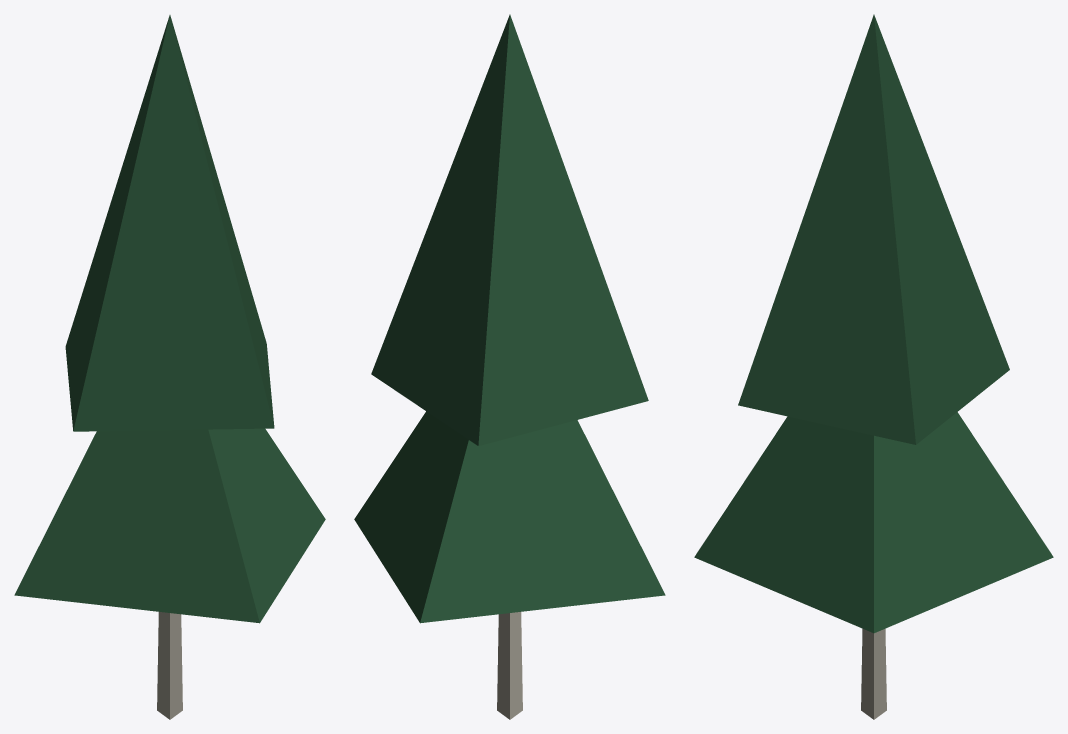
Rendered from tree_cone_far.glb.
3 renders of one model, left to right at view 1: azimuth 30°, elevation 25°; view 2: azimuth 150°, elevation 25°; view 3: azimuth 270°, elevation 25°, orthographic.
Visible parts, largest first — view 1: tree_cone_far; view 2: tree_cone_far; view 3: tree_cone_far.
Part boxes in pixels (<box>): tree_cone_far: <box>14,15,325,719</box>; tree_cone_far: <box>354,14,665,719</box>; tree_cone_far: <box>694,14,1053,719</box>.
Size of the model in its own units: 4.8 by 10.3 by 4.8.
Materials: 1 (1 with a texture image).
